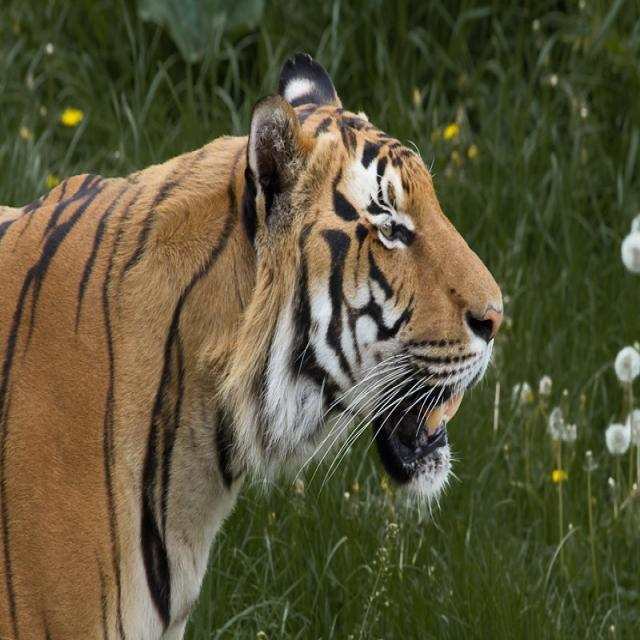Tiger: (0, 50, 510, 638)
